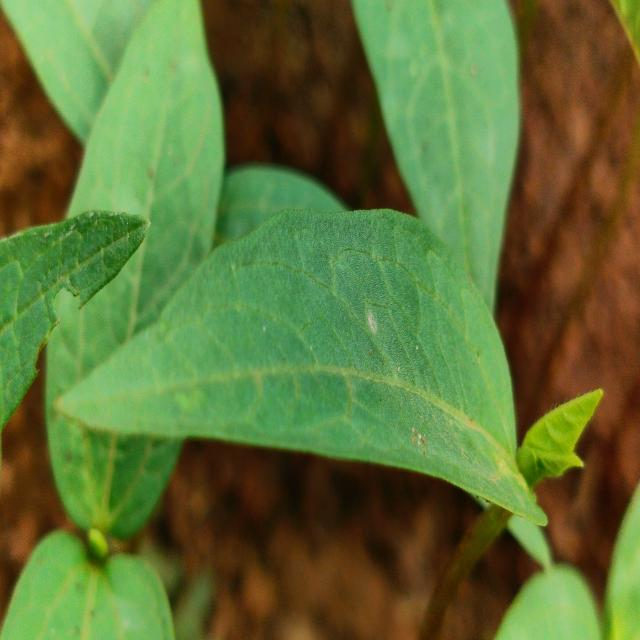Black gram_healthy: (52, 202, 552, 522), (48, 0, 222, 539), (350, 0, 522, 356)
